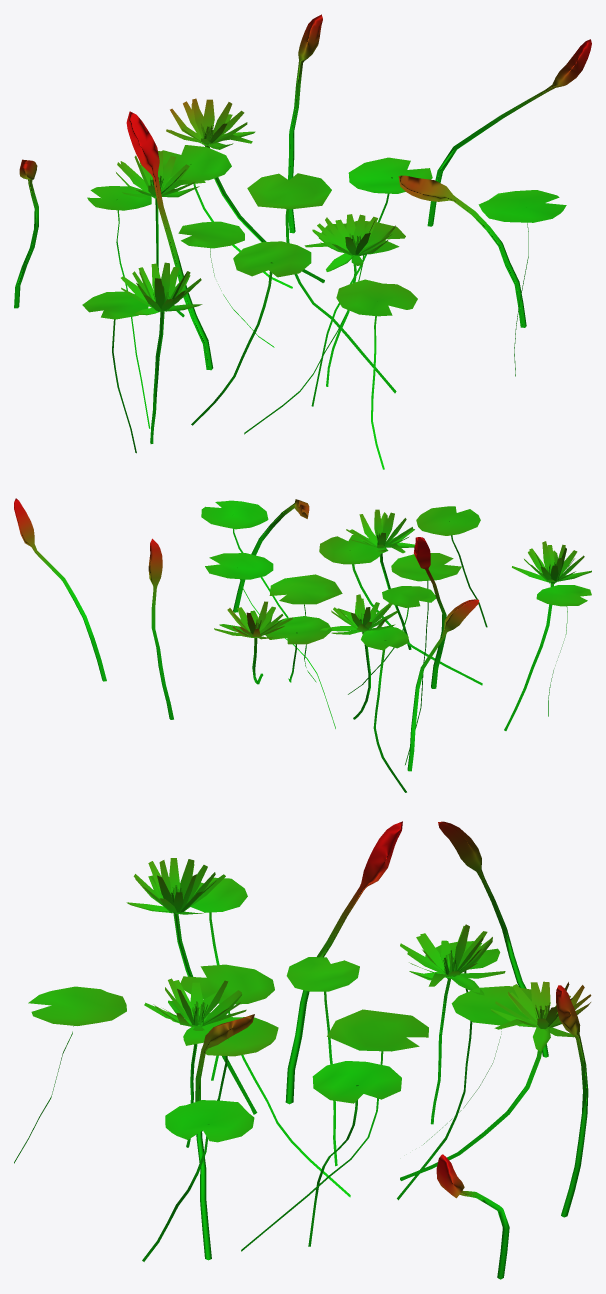
Rendered from Carolana Water Lily_LOD1_Var5_uc2jdibia.fbx.
3 views of the same model, one above another, from view 1: azimuth 30°, elevation 25°; view 2: azimuth 150°, elevation 25°; view 3: azimuth 270°, elevation 25° (orthographic). The views are drawn at different scales.
Parts seen in each view (by area): view 1: merge1; view 2: merge1; view 3: merge1.
Part boxes in pixels (box(x1,y1,x2,y2)): merge1: box(14, 14, 591, 469); merge1: box(14, 498, 591, 792); merge1: box(14, 821, 591, 1279).
Size of the model in its own units: 200 by 102 by 144.
